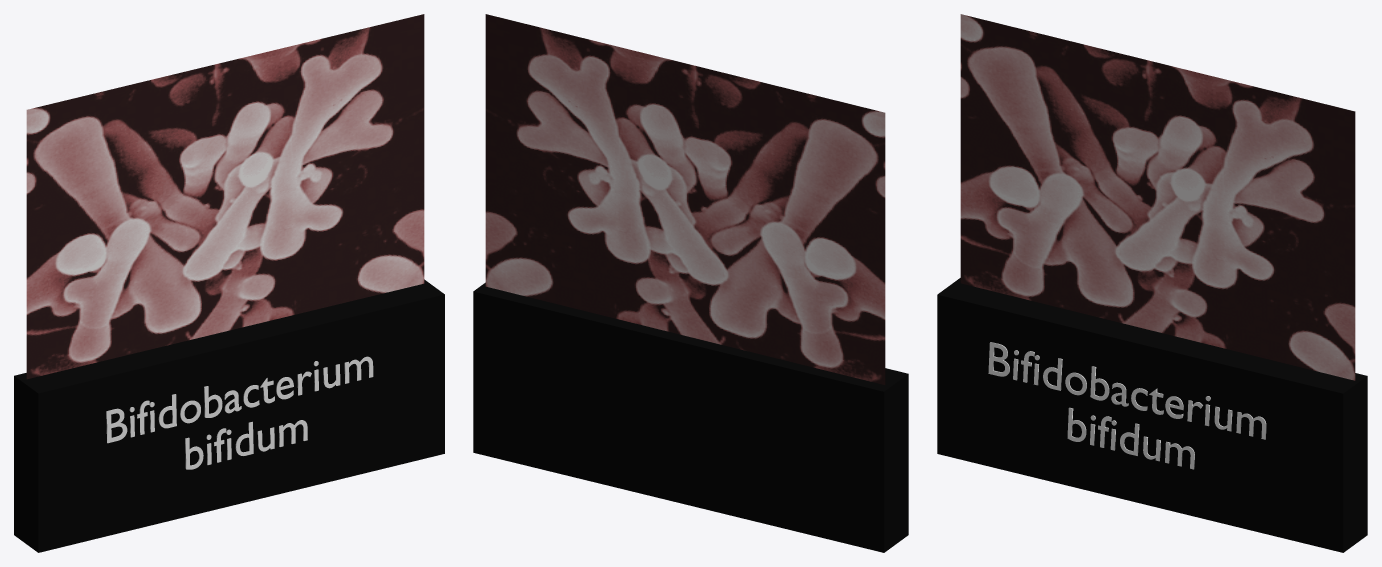
File: bifido.gltf
3 views of the same model, side by side, from view 1: azimuth 30°, elevation 25°; view 2: azimuth 150°, elevation 25°; view 3: azimuth 330°, elevation 25° (orthographic).
Visible parts, largest first — view 1: Bifidobacterium, Cube.001, Text.001; view 2: Bifidobacterium, Cube.001; view 3: Bifidobacterium, Cube.001, Text.001.
Part boxes in pixels (<box>): Bifidobacterium: <box>26,14,424,379</box>; Cube.001: <box>14,279,444,552</box>; Text.001: <box>106,356,373,469</box>; Bifidobacterium: <box>485,14,885,384</box>; Cube.001: <box>473,282,908,552</box>; Bifidobacterium: <box>960,14,1355,380</box>; Cube.001: <box>937,278,1367,552</box>; Text.001: <box>988,342,1266,469</box>.
Bounding box in the file's own units: 2.04 × 2.06 × 0.2894.
Materials: 2 (1 with a texture image).
